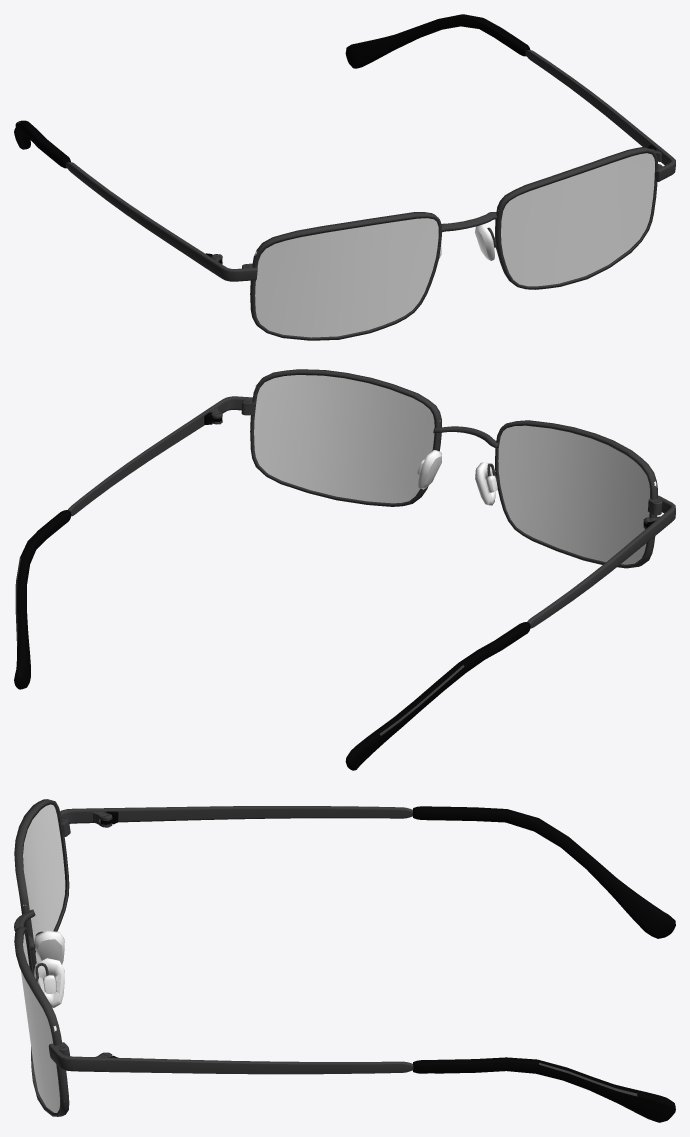
Rendered from SKU25390001.gltf.
3 renders of one model, top to bottom at view 1: azimuth 30°, elevation 25°; view 2: azimuth 150°, elevation 25°; view 3: azimuth 270°, elevation 25°, orthographic. The views are drawn at different scales.
Visible parts, largest first — view 1: Lenses, Frame, LBranch, RBranch; view 2: Lenses, Frame, RBranch, LBranch; view 3: RBranch, Lenses, LBranch, Frame.
Part boxes in pixels (bbox=[...]): Lenses: bbox=[255, 153, 654, 337]; Frame: bbox=[206, 147, 675, 340]; LBranch: bbox=[345, 14, 659, 149]; RBranch: bbox=[14, 120, 222, 268]; Lenses: bbox=[254, 375, 656, 564]; Frame: bbox=[207, 369, 675, 568]; RBranch: bbox=[345, 519, 661, 770]; LBranch: bbox=[14, 410, 222, 689]; RBranch: bbox=[100, 806, 675, 938]; Lenses: bbox=[21, 804, 65, 1112]; LBranch: bbox=[105, 1055, 675, 1122]; Frame: bbox=[14, 799, 112, 1116].
Size of the model in its own units: 149 by 36.61 by 161.
4 materials, 4 textured.
